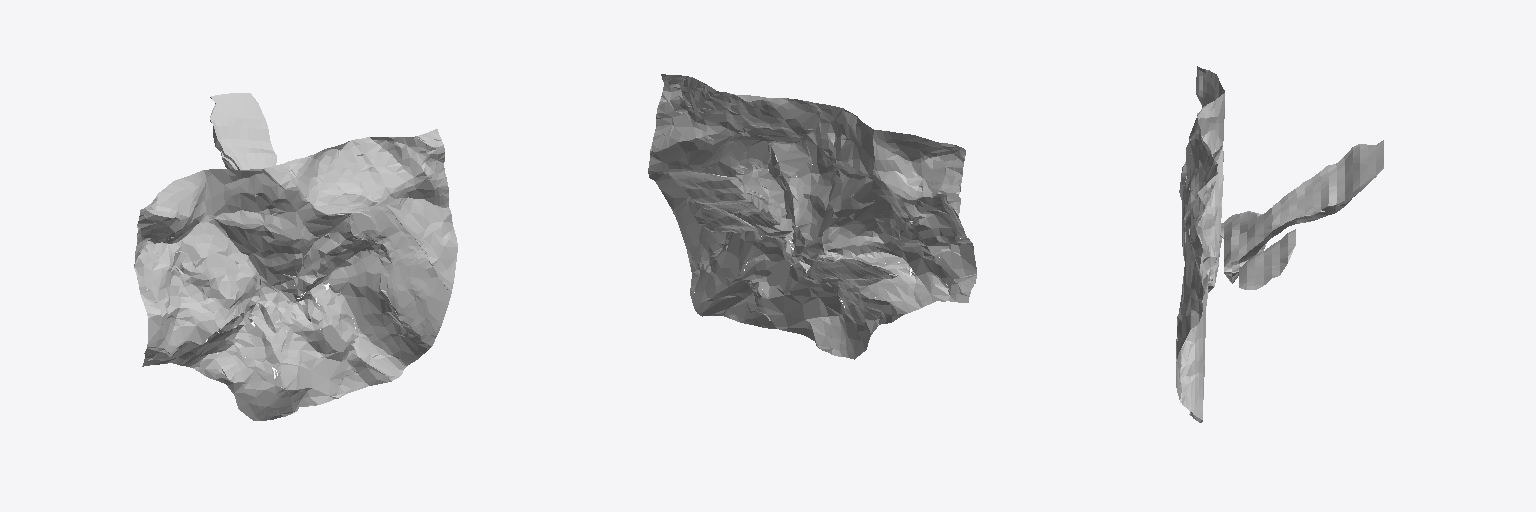
The model's file is sgeol.obj.
3 views of the same model, side by side, from view 1: azimuth 30°, elevation 25°; view 2: azimuth 150°, elevation 25°; view 3: azimuth 270°, elevation 25° (orthographic).
Size of the model in its own units: 1 by 0.7518 by 0.5647.